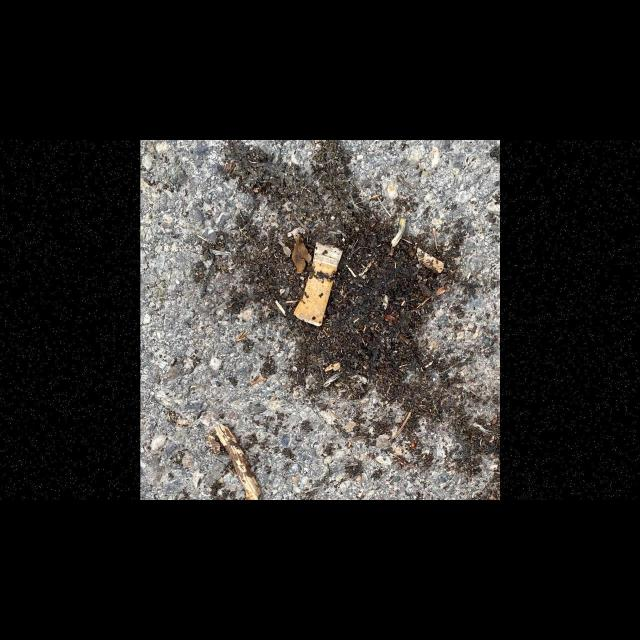cigarette: (292, 241, 344, 327)
